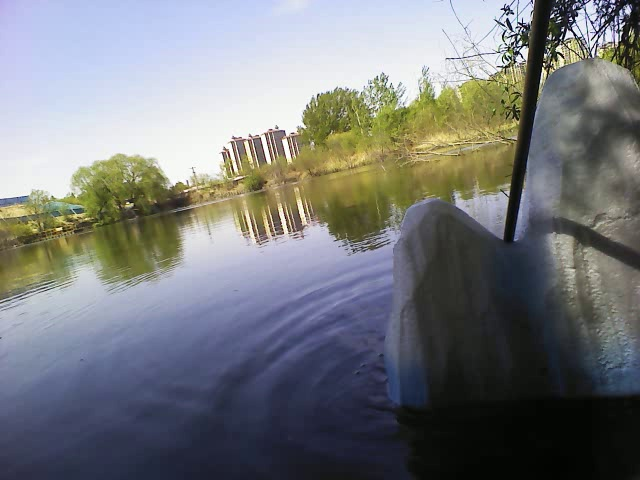iceberg: (382, 55, 636, 406)
